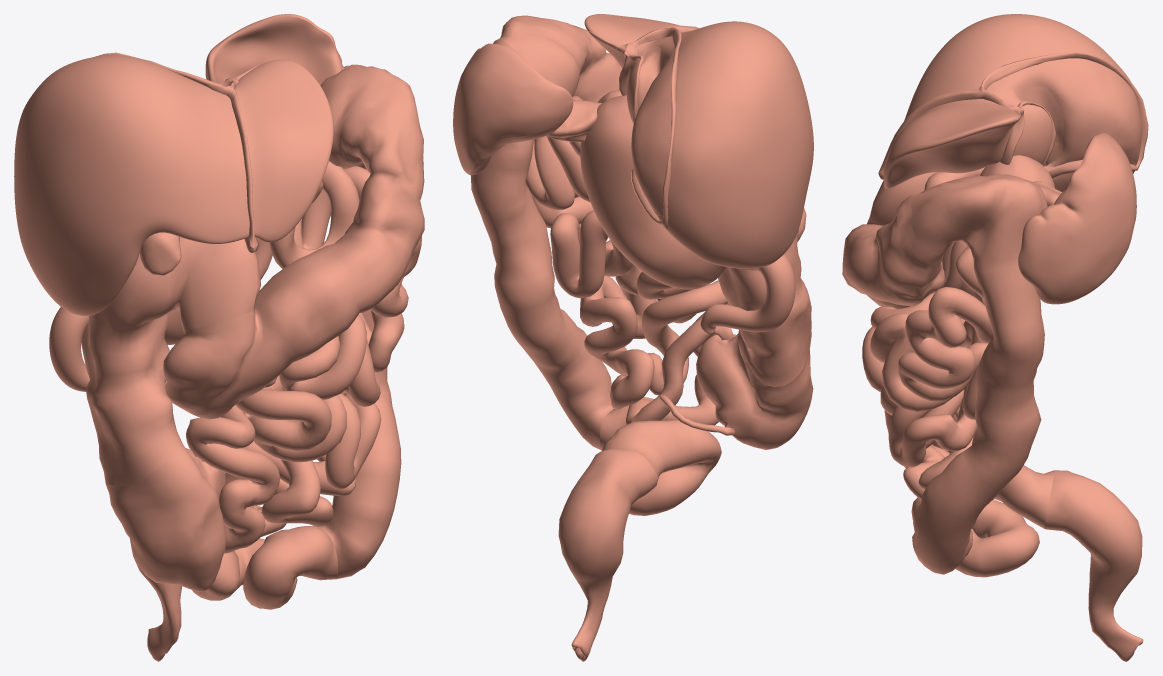
File: digestive.glb
3 renders of one model, left to right at view 1: azimuth 30°, elevation 25°; view 2: azimuth 150°, elevation 25°; view 3: azimuth 270°, elevation 25°, orthographic. The views are drawn at different scales.
Parts seen in each view (by area): view 1: liver_VH_M_liver_capsule, large_intestine_VH_M_transverse_colon, small_intestine_VH_M_ileum, large_intestine_VH_M_ascending_colon, small_intestine_VH_M_jejunum, large_intestine_VH_M_caecum, large_intestine_VH_M_descending_colon, large_intestine_VH_M_splenic_flexure_of_colon, large_intestine_VH_M_sigmoid_colon, large_intestine_VH_M_hepatic_flexure_of_colon, spleen_VH_M_gastric_surface_of_spleen, stomach_Object_4 (+5 smaller); view 2: liver_VH_M_liver_capsule, large_intestine_VH_M_descending_colon, stomach_Object_4, small_intestine_VH_M_ileum, large_intestine_VH_M_rectum, small_intestine_VH_M_jejunum, spleen_VH_M_diaphragmatic_surface_of_spleen, large_intestine_VH_M_caecum, large_intestine_VH_M_sigmoid_colon, large_intestine_VH_M_ascending_colon, liver_VH_M_bare_area_of_liver, large_intestine_VH_M_splenic_flexure_of_colon (+7 smaller); view 3: large_intestine_VH_M_descending_colon, liver_VH_M_liver_capsule, small_intestine_VH_M_jejunum, spleen_VH_M_diaphragmatic_surface_of_spleen, large_intestine_VH_M_rectum, liver_VH_M_bare_area_of_liver, large_intestine_VH_M_transverse_colon, small_intestine_VH_M_ileum, large_intestine_VH_M_sigmoid_colon, large_intestine_VH_M_splenic_flexure_of_colon, liver_VH_M_coronary_ligament_of_liver, large_intestine_VH_M_hepatic_flexure_of_colon (+4 smaller).
Part boxes in pixels (left/top/right/bottom): liver_VH_M_liver_capsule: left=14, top=55, right=333, bottom=315; large_intestine_VH_M_transverse_colon: left=163, top=81, right=424, bottom=419; small_intestine_VH_M_ileum: left=186, top=386, right=381, bottom=553; large_intestine_VH_M_ascending_colon: left=81, top=254, right=182, bottom=486; small_intestine_VH_M_jejunum: left=264, top=161, right=421, bottom=406; large_intestine_VH_M_caecum: left=105, top=444, right=226, bottom=591; large_intestine_VH_M_descending_colon: left=317, top=67, right=401, bottom=578; large_intestine_VH_M_splenic_flexure_of_colon: left=321, top=64, right=423, bottom=168; large_intestine_VH_M_sigmoid_colon: left=192, top=524, right=337, bottom=609; large_intestine_VH_M_hepatic_flexure_of_colon: left=167, top=237, right=260, bottom=330; spleen_VH_M_gastric_surface_of_spleen: left=212, top=16, right=343, bottom=85; stomach_Object_4: left=49, top=237, right=259, bottom=391; liver_VH_M_liver_capsule: left=584, top=14, right=813, bottom=268; large_intestine_VH_M_descending_colon: left=471, top=39, right=613, bottom=450; stomach_Object_4: left=580, top=95, right=795, bottom=333; small_intestine_VH_M_ileum: left=580, top=264, right=736, bottom=425; large_intestine_VH_M_rectum: left=558, top=448, right=657, bottom=661; small_intestine_VH_M_jejunum: left=526, top=90, right=672, bottom=299; spleen_VH_M_diaphragmatic_surface_of_spleen: left=453, top=43, right=573, bottom=174; large_intestine_VH_M_caecum: left=696, top=333, right=813, bottom=449; large_intestine_VH_M_sigmoid_colon: left=600, top=397, right=721, bottom=515; large_intestine_VH_M_ascending_colon: left=718, top=216, right=811, bottom=387; liver_VH_M_bare_area_of_liver: left=631, top=36, right=674, bottom=219; large_intestine_VH_M_splenic_flexure_of_colon: left=497, top=15, right=592, bottom=96; large_intestine_VH_M_descending_colon: left=912, top=181, right=1047, bottom=574; liver_VH_M_liver_capsule: left=883, top=14, right=1140, bottom=192; small_intestine_VH_M_jejunum: left=870, top=241, right=993, bottom=419; spleen_VH_M_diaphragmatic_surface_of_spleen: left=1019, top=133, right=1136, bottom=304; large_intestine_VH_M_rectum: left=1045, top=470, right=1143, bottom=661; liver_VH_M_bare_area_of_liver: left=986, top=58, right=1142, bottom=169; large_intestine_VH_M_transverse_colon: left=842, top=174, right=995, bottom=308; small_intestine_VH_M_ileum: left=862, top=326, right=976, bottom=499; large_intestine_VH_M_sigmoid_colon: left=911, top=465, right=1054, bottom=577; large_intestine_VH_M_splenic_flexure_of_colon: left=910, top=174, right=1030, bottom=269; liver_VH_M_coronary_ligament_of_liver: left=979, top=51, right=1148, bottom=178; large_intestine_VH_M_hepatic_flexure_of_colon: left=869, top=172, right=937, bottom=224.
Size of the model in its own units: 0.2763 by 0.4934 by 0.2286.
